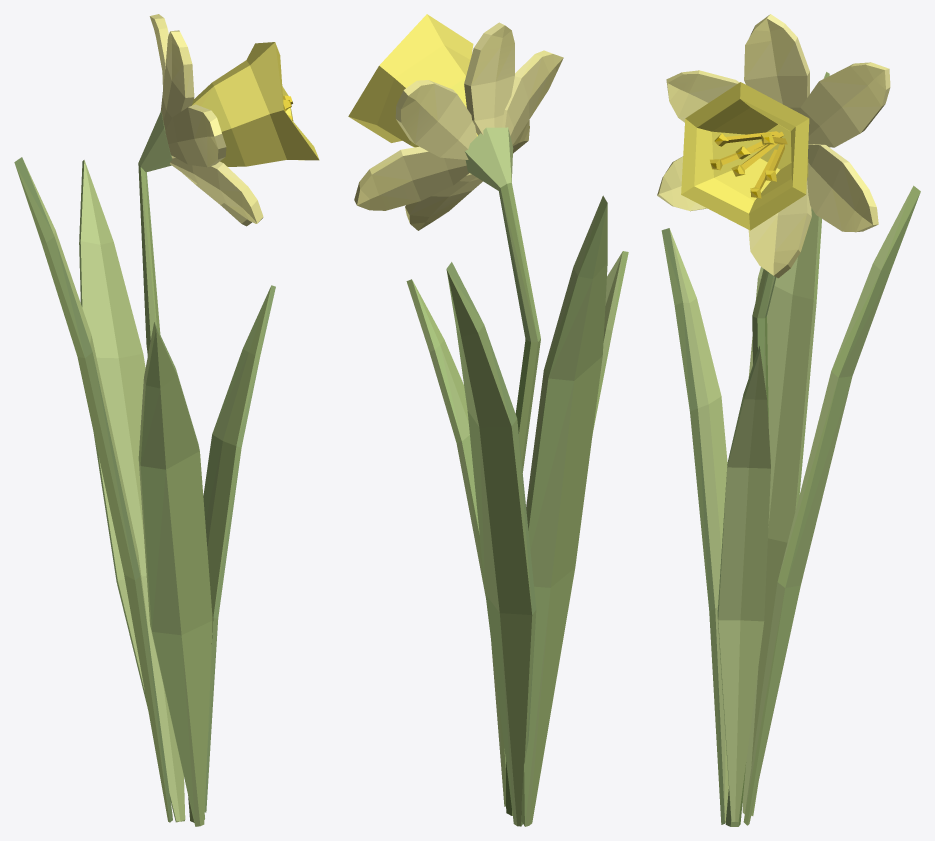
The model's file is daffodil_03.glb.
3 views of the same model, side by side, from view 1: azimuth 30°, elevation 25°; view 2: azimuth 150°, elevation 25°; view 3: azimuth 270°, elevation 25° (orthographic). The views are drawn at different scales.
Parts seen in each view (by area): view 1: PP_Daffodil_03.002; view 2: PP_Daffodil_03.002; view 3: PP_Daffodil_03.002.
Part boxes in pixels (bbox=[...]): PP_Daffodil_03.002: bbox=[14, 14, 319, 826]; PP_Daffodil_03.002: bbox=[348, 14, 628, 826]; PP_Daffodil_03.002: bbox=[657, 14, 920, 826].
Bounding box in the file's own units: 0.3272 × 0.9317 × 0.2748.
